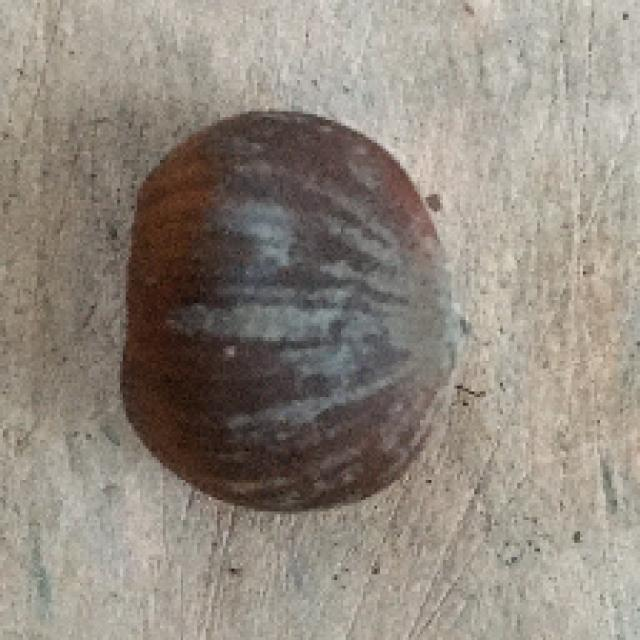damagedHazelnut: (122, 102, 463, 514)
